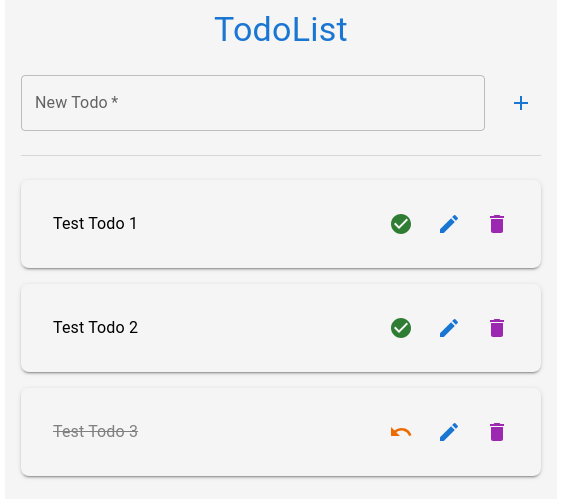
Scenario: TodoPage › TODOが未完了状態に変更されること
Click the button named "complete todo" in the row of "Test Todo 1" at (401, 224), box [381,204,421,244]
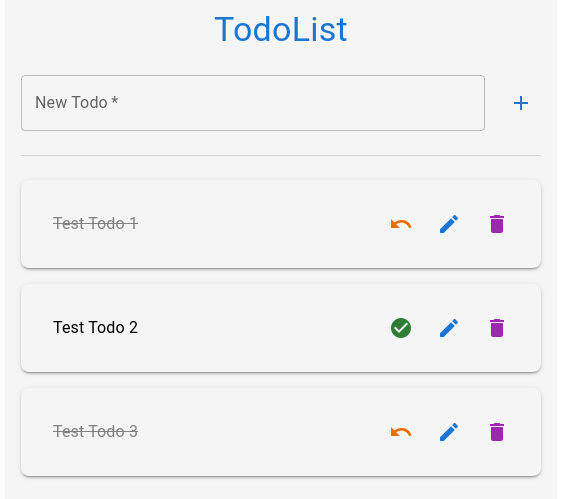
Check: the button named "incomplete todo" in the row of "Test Todo 1" is shown, box [381,204,421,244]
